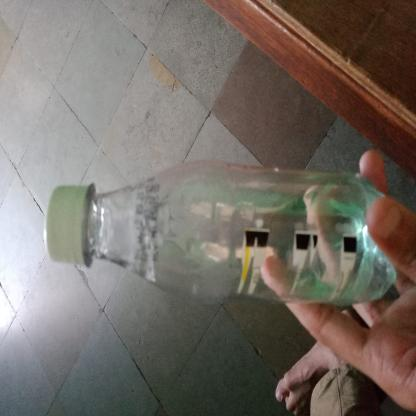bottle: (81, 57, 194, 416)
